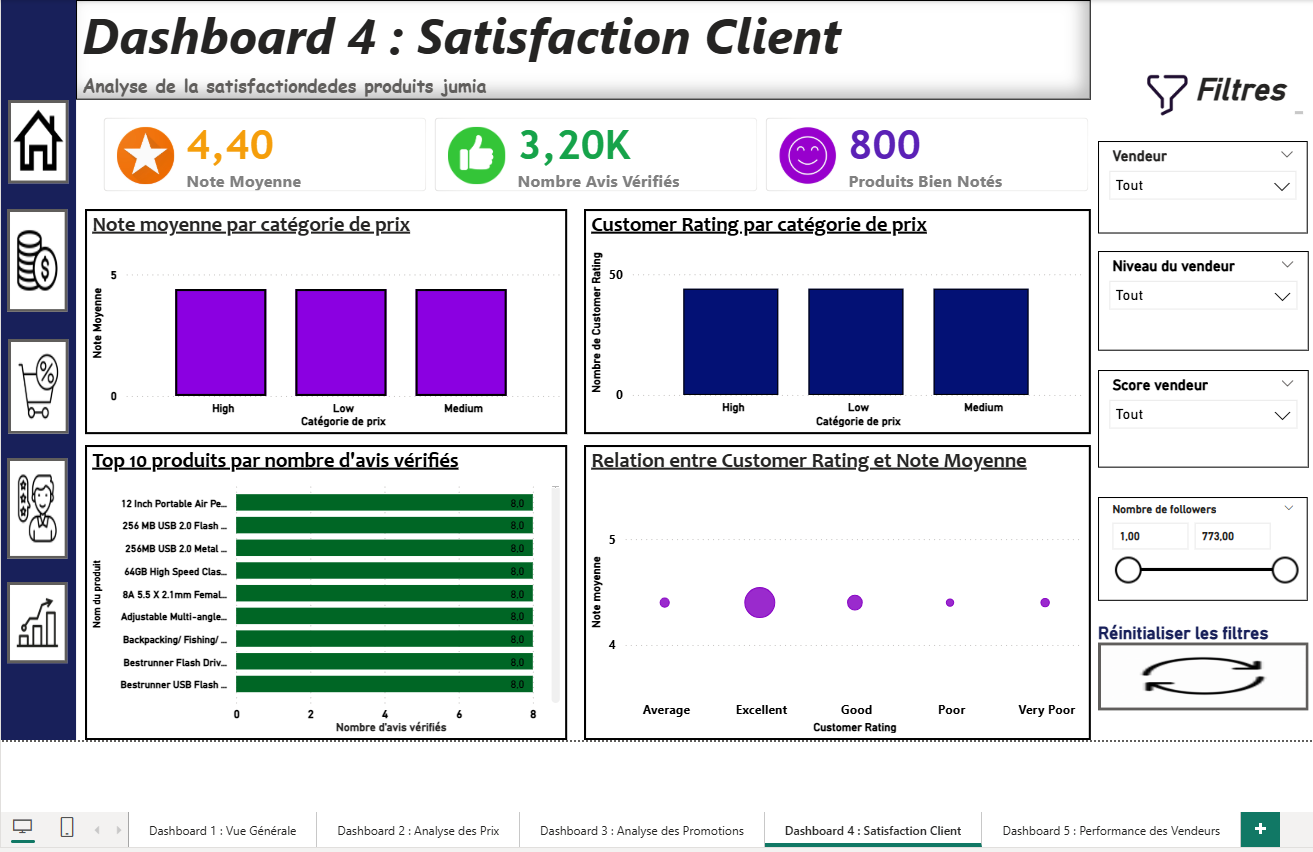

The page's visual inventory and layout, read from the dashboard file:
{"tool":"powerbi","page":{"name":"Dashboard 4 : Satisfaction Client","canvas":[1280,720],"ordinal":3},"visuals":[{"type":"actionButton","title":"Réinitialiser les filtres","box":[1066.7,605.7,204.6,85.1],"z":0},{"type":"textbox","box":[0,0,73.3,719.5],"z":1000},{"type":"actionButton","box":[6.8,97,58.6,81.2],"z":2000},{"type":"actionButton","box":[5.6,203,58.6,100.4],"z":3000},{"type":"actionButton","box":[6.8,329.3,58.6,92.5],"z":4000},{"type":"actionButton","box":[5.6,445.5,58.6,98.1],"z":5000},{"type":"actionButton","box":[5.6,566.1,58.6,78.9],"z":6000},{"type":"textbox","title":"Dashboard 4 : Satisfaction Client","box":[72.9,0,987.2,97.3],"z":7000},{"type":"image","box":[1104.1,68.8,60.9,47.4],"z":8000},{"type":"cardVisual","fields":{"Data":["vue generale.Note Moyenne","Satisfaction Client.Nombre Avis Vérifiés","Satisfaction Client.Produits Bien Notés"]},"box":[82.7,97.3,994,106],"z":9000},{"type":"columnChart","title":"Note moyenne par catégorie de prix","fields":{"Y":["vue generale.Note Moyenne"],"Category":["dw dim_product.price_category"]},"box":[81.7,203.3,468.8,218.8],"z":10000},{"type":"columnChart","title":"Customer Rating par catégorie de prix","fields":{"Y":["CountNonNull(dw dim_quality.customer_rating)"],"Category":["dw dim_product.price_category"]},"box":[567.1,203.3,493.1,218.8],"z":11000},{"type":"barChart","title":" Top 10 produits par nombre d''avis vérifiés","fields":{"Category":["dw dim_product.name"],"Y":["Satisfaction Client.Nombre Avis Vérifiés"]},"box":[81.7,432.8,468.8,286.9],"z":12000},{"type":"scatterChart","title":"Relation entre Customer Rating et Note Moyenne","fields":{"X":["dw dim_quality.customer_rating"],"Y":["dw fact_products.rate"],"Size":["Sum(dw fact_products.verified_ratings)"]},"box":[567,433,493,287],"z":13000},{"type":"slicer","fields":{"Values":["dw dim_vendor.seller_id"]},"box":[1066.9,137.6,204.1,90.2],"z":14000},{"type":"slicer","fields":{"Values":["dw dim_vendor.saler_score"]},"box":[1066.7,359.8,204.6,95.4],"z":15000},{"type":"slicer","fields":{"Values":["dw dim_vendor.followers"]},"box":[1066.9,483.8,204.1,101.5],"z":16000},{"type":"slicer","fields":{"Values":["dw dim_vendor.seller_level"]},"box":[1066.7,243.7,204.6,96.6],"z":17000},{"type":"textbox","title":"Filtres ","box":[1156.3,69,114.9,47.1],"z":18000}]}

Visuals, with their boxes on the page's 1280x720 design canvas (x1, y1, x2, y2). These are canvas units, not pixel positions in the 1313x852 screenshot, which may show the page scaled, cropped or inside an application window:
"Réinitialiser les filtres" actionButton: pyautogui.locateOnScreen(1067, 606, 1271, 691)
textbox: pyautogui.locateOnScreen(0, 0, 73, 720)
actionButton: pyautogui.locateOnScreen(7, 97, 65, 178)
actionButton: pyautogui.locateOnScreen(6, 203, 64, 303)
actionButton: pyautogui.locateOnScreen(7, 329, 65, 422)
actionButton: pyautogui.locateOnScreen(6, 446, 64, 544)
actionButton: pyautogui.locateOnScreen(6, 566, 64, 645)
"Dashboard 4 : Satisfaction Client" textbox: pyautogui.locateOnScreen(73, 0, 1060, 97)
image: pyautogui.locateOnScreen(1104, 69, 1165, 116)
cardVisual - vue generale.Note Moyenne x Satisfaction Client.Nombre Avis Vérifiés: pyautogui.locateOnScreen(83, 97, 1077, 203)
"Note moyenne par catégorie de prix" columnChart: pyautogui.locateOnScreen(82, 203, 550, 422)
"Customer Rating par catégorie de prix" columnChart: pyautogui.locateOnScreen(567, 203, 1060, 422)
" Top 10 produits par nombre d''avis vérifiés" barChart: pyautogui.locateOnScreen(82, 433, 550, 720)
"Relation entre Customer Rating et Note Moyenne" scatterChart: pyautogui.locateOnScreen(567, 433, 1060, 720)
slicer - dw dim_vendor.seller_id: pyautogui.locateOnScreen(1067, 138, 1271, 228)
slicer - dw dim_vendor.saler_score: pyautogui.locateOnScreen(1067, 360, 1271, 455)
slicer - dw dim_vendor.followers: pyautogui.locateOnScreen(1067, 484, 1271, 585)
slicer - dw dim_vendor.seller_level: pyautogui.locateOnScreen(1067, 244, 1271, 340)
"Filtres " textbox: pyautogui.locateOnScreen(1156, 69, 1271, 116)
